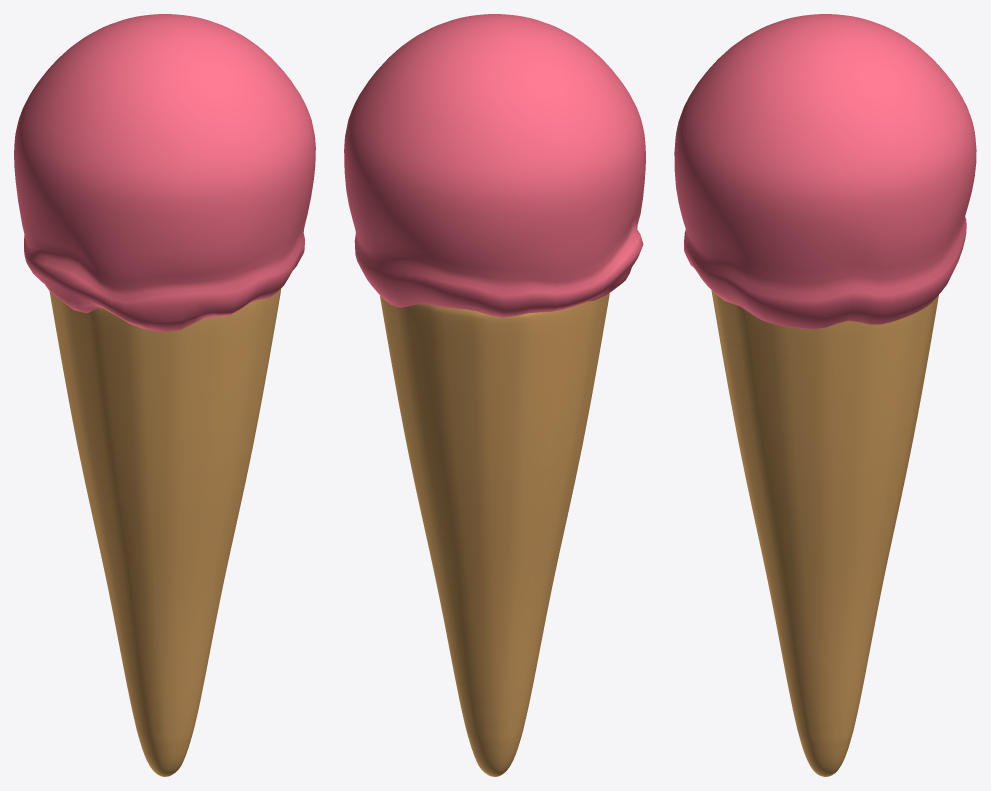
File: IceCream_Strawberry.fbx
3 views of the same model, side by side, from view 1: azimuth 30°, elevation 25°; view 2: azimuth 150°, elevation 25°; view 3: azimuth 270°, elevation 25° (orthographic).
Visible parts, largest first — view 1: iceCream_Strawberry; view 2: iceCream_Strawberry; view 3: iceCream_Strawberry.
Part boxes in pixels (<box>): iceCream_Strawberry: <box>14,14,315,776</box>; iceCream_Strawberry: <box>344,14,645,776</box>; iceCream_Strawberry: <box>674,14,976,776</box>.
Size of the model in its own units: 464 by 1269 by 464.
